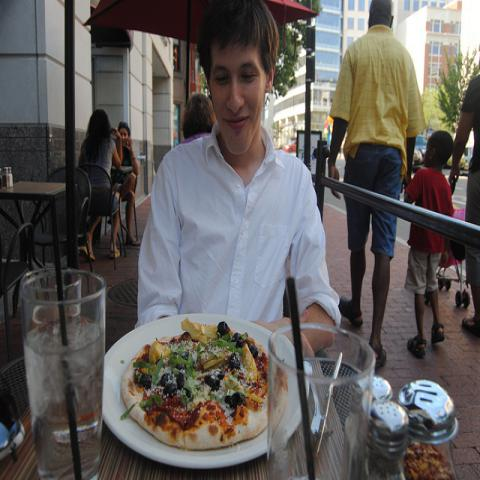car: (283, 138, 296, 154)
